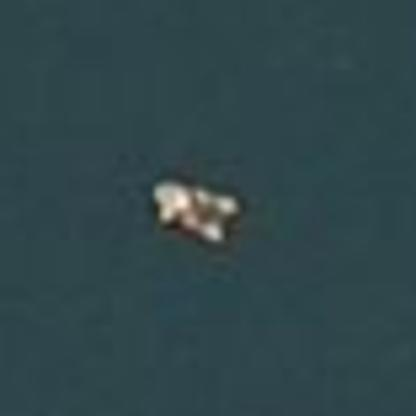ship: (144, 172, 250, 247)
